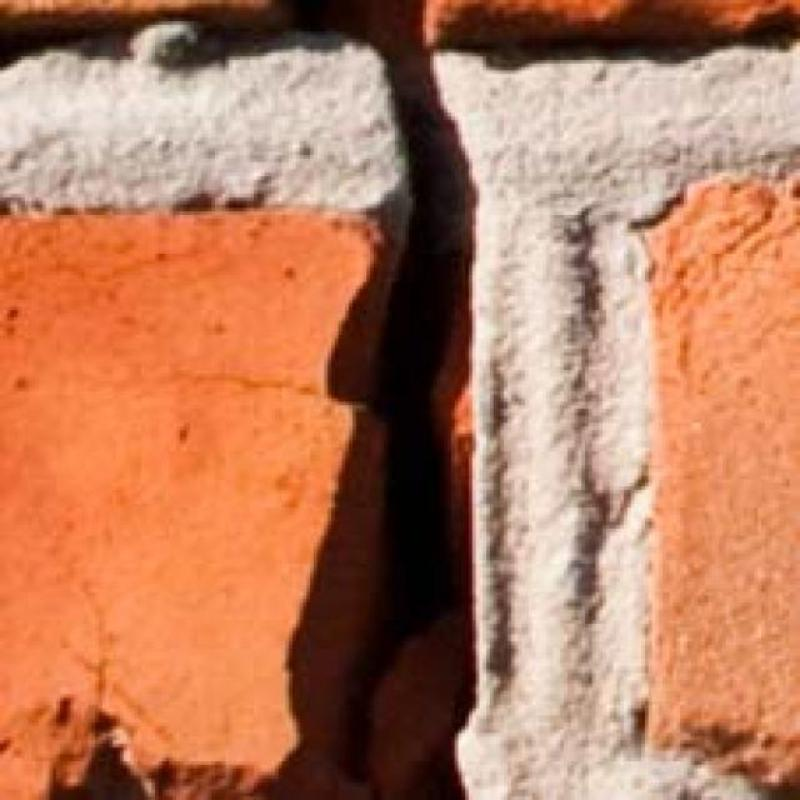pothole: (256, 0, 479, 799)
